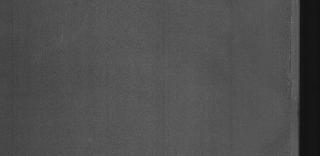silk spot: (18, 12, 98, 66)
